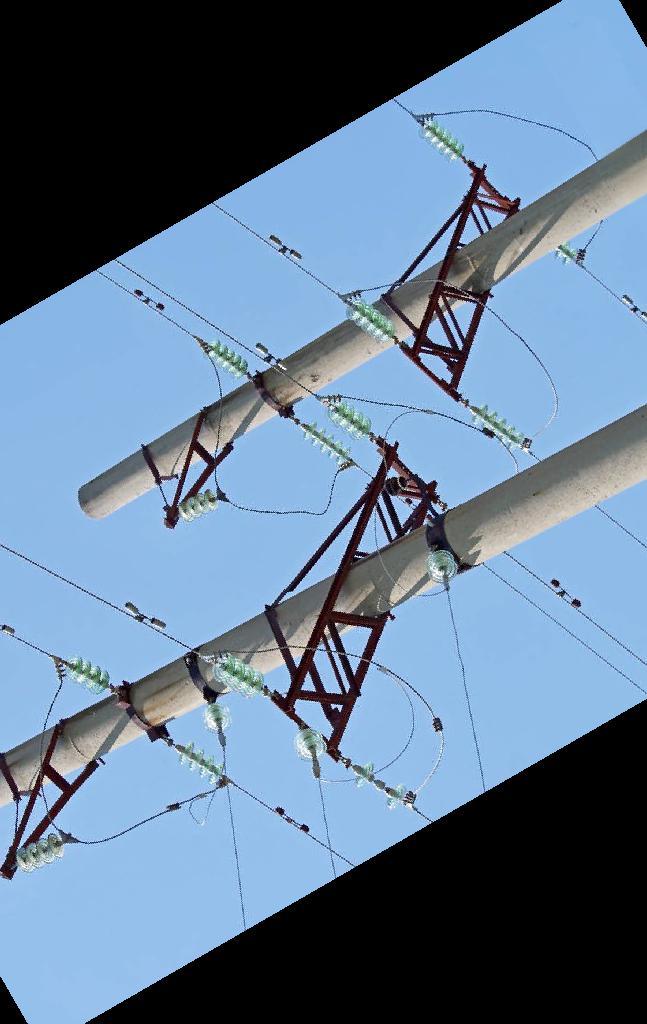insulator: (354, 759, 411, 816), (210, 647, 267, 703), (470, 402, 528, 453), (343, 297, 399, 348), (175, 738, 227, 789), (12, 831, 68, 877), (415, 117, 468, 165), (59, 652, 113, 699), (298, 419, 352, 466), (327, 396, 376, 444), (199, 336, 250, 381), (175, 484, 221, 527), (289, 723, 330, 766), (423, 544, 461, 587), (199, 698, 236, 736)
insulator_stringdrop: (349, 758, 409, 815)
